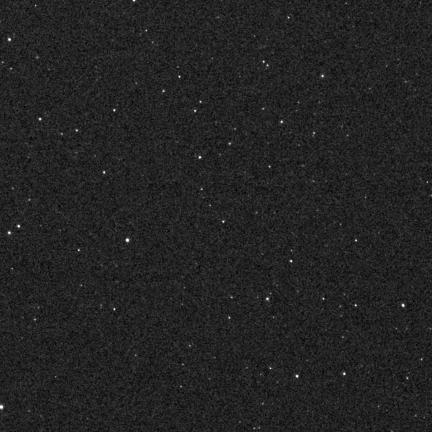blob: (126, 238, 130, 243)
